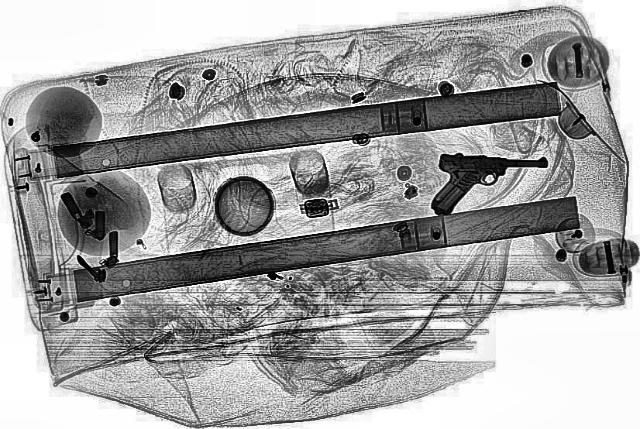Gun: (426, 152, 554, 217)
